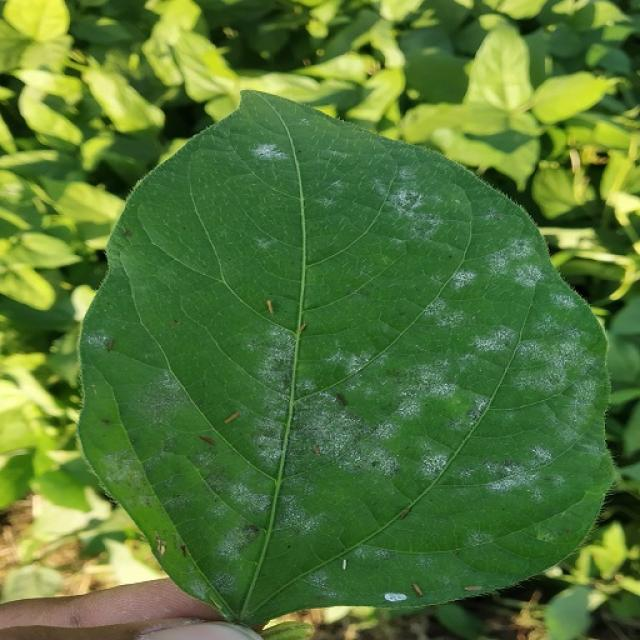Blackgram: (79, 94, 611, 624)
Powdery_Mildew: (396, 251, 549, 552), (264, 157, 399, 278), (294, 306, 433, 404), (254, 322, 324, 500), (83, 326, 187, 442), (268, 97, 312, 345), (245, 544, 357, 623), (75, 278, 113, 439), (199, 583, 252, 627), (209, 594, 223, 611), (398, 507, 412, 520)
